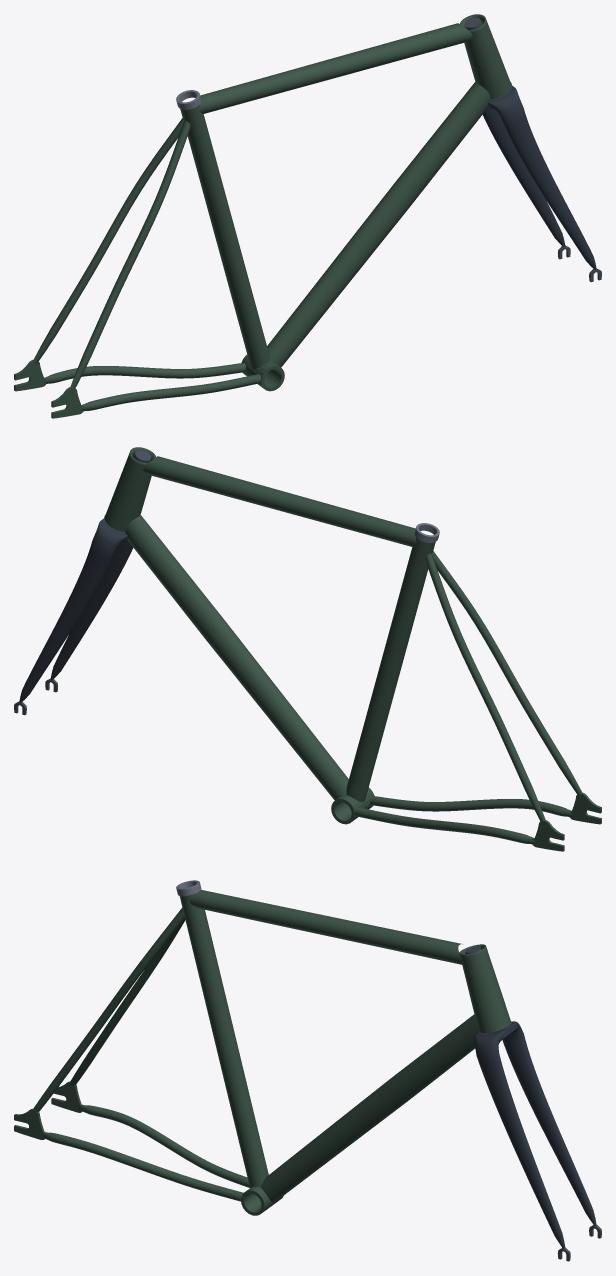
The model's file is skream-ranger-m.glb.
The picture shows the model from 3 angles, top to bottom: view 1: azimuth 30°, elevation 25°; view 2: azimuth 150°, elevation 25°; view 3: azimuth 330°, elevation 25°; orthographic projection.
Parts seen in each view (by area): view 1: paint_down, paint_seat, paint_top, fork_blade_1, paint_seatstay_1, paint_seatstay_-1, paint_head, fork_blade_-1, paint_chainstay_-1, paint_chainstay_1, paint_bottom_bracket, fork_crown (+2 smaller); view 2: paint_down, paint_seat, paint_top, fork_blade_-1, paint_seatstay_-1, paint_seatstay_1, paint_head, fork_blade_1, paint_chainstay_1, paint_chainstay_-1, paint_bottom_bracket, fork_crown (+2 smaller); view 3: paint_down, paint_seat, paint_top, fork_blade_1, fork_blade_-1, paint_head, paint_seatstay_1, paint_chainstay_1, paint_chainstay_-1, paint_seatstay_-1, fork_crown, paint_bottom_bracket (+2 smaller).
Boxes of the visible parts, x1,y1,x2,y2 form: paint_down: [267, 82, 490, 367]; paint_seat: [180, 104, 269, 369]; paint_top: [199, 23, 472, 113]; fork_blade_1: [502, 109, 596, 269]; paint_seatstay_1: [70, 120, 190, 388]; paint_seatstay_-1: [33, 118, 183, 363]; paint_head: [460, 14, 511, 99]; fork_blade_-1: [482, 107, 565, 246]; paint_chainstay_-1: [43, 363, 245, 383]; paint_chainstay_1: [80, 374, 260, 411]; paint_bottom_bracket: [241, 354, 284, 391]; fork_crown: [488, 85, 523, 120]; paint_down: [125, 515, 348, 800]; paint_seat: [346, 537, 435, 802]; paint_top: [143, 456, 416, 546]; fork_blade_-1: [19, 542, 113, 702]; paint_seatstay_-1: [425, 553, 545, 821]; paint_seatstay_1: [432, 551, 582, 796]; paint_head: [104, 447, 155, 532]; fork_blade_1: [50, 540, 133, 679]; paint_chainstay_1: [370, 796, 572, 816]; paint_chainstay_-1: [355, 807, 535, 844]; paint_bottom_bracket: [331, 787, 374, 824]; fork_crown: [92, 518, 127, 553]; paint_down: [260, 1014, 479, 1203]; paint_seat: [179, 894, 268, 1187]; paint_top: [189, 890, 462, 964]; fork_blade_1: [476, 1053, 565, 1248]; fork_blade_-1: [502, 1034, 596, 1225]; paint_head: [459, 944, 511, 1033]; paint_seatstay_1: [33, 907, 184, 1112]; paint_chainstay_1: [41, 1132, 243, 1201]; paint_chainstay_-1: [79, 1105, 249, 1187]; paint_seatstay_-1: [70, 918, 185, 1085]; fork_crown: [474, 1021, 523, 1056]; paint_bottom_bracket: [241, 1187, 283, 1215].
Bounding box in the file's own units: 1.07 × 0.5812 × 0.1434.
